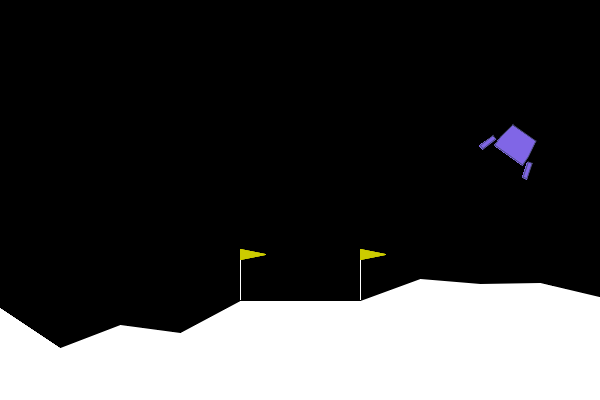lander: (477, 114, 550, 182)
